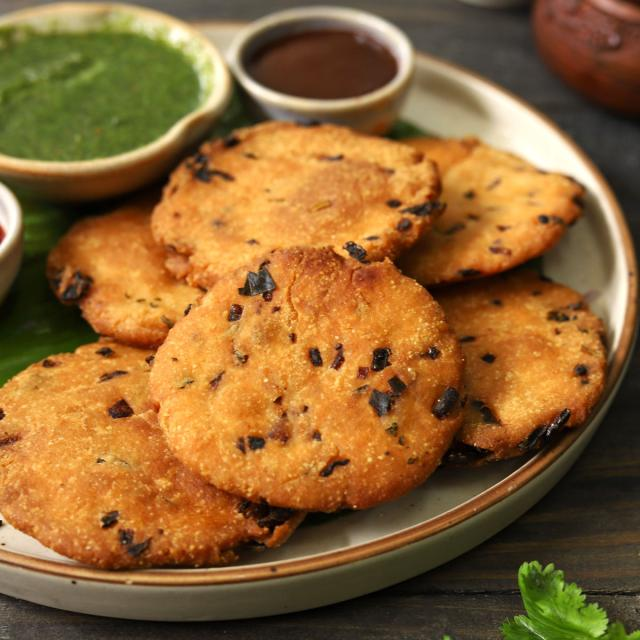GREEN CHUTNEY: (0, 28, 211, 162)
VADA: (10, 121, 608, 547)
